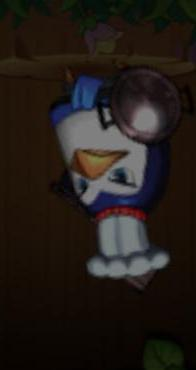ImgView: (1, 1, 195, 369)
